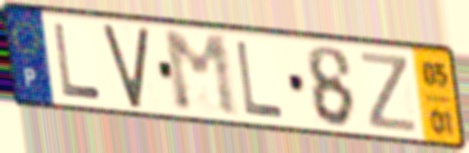8: (304, 44, 359, 130)
L: (233, 38, 287, 121), (50, 20, 104, 102)
M: (159, 30, 243, 120)
V: (99, 23, 151, 111)
Z: (357, 49, 420, 135)
